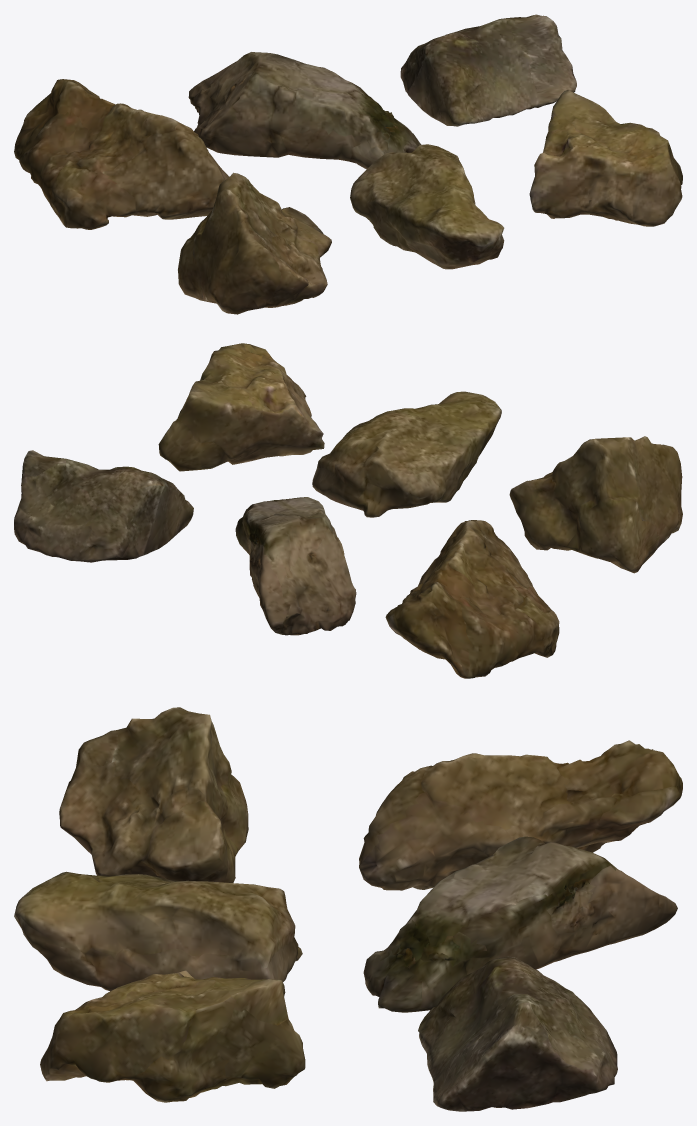
The model's file is rock_moss_set_01.glb.
The picture shows the model from 3 angles, top to bottom: view 1: azimuth 30°, elevation 25°; view 2: azimuth 150°, elevation 25°; view 3: azimuth 270°, elevation 25°; orthographic projection. The views are drawn at different scales.
Visible parts, largest first — view 1: rock_moss_set_01_rock01; view 2: rock_moss_set_01_rock01; view 3: rock_moss_set_01_rock01.
Part boxes in pixels (<box>): rock_moss_set_01_rock01: <box>14,14,682,314</box>; rock_moss_set_01_rock01: <box>14,343,682,678</box>; rock_moss_set_01_rock01: <box>14,707,682,1111</box>.
Bounding box in the file's own units: 8 × 1.76 × 6.94.
Materials: 1 (1 with a texture image).
